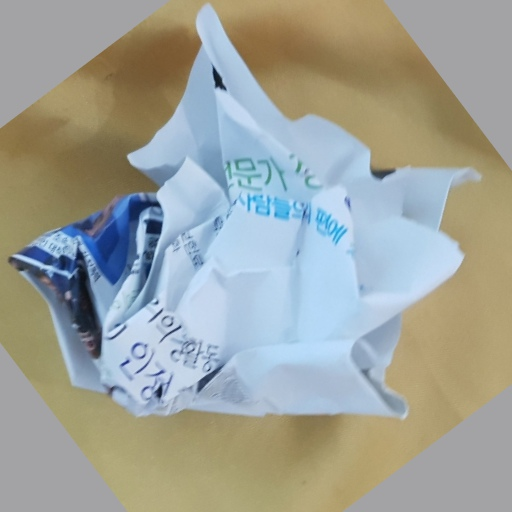Paper_3: (14, 1, 472, 441)
